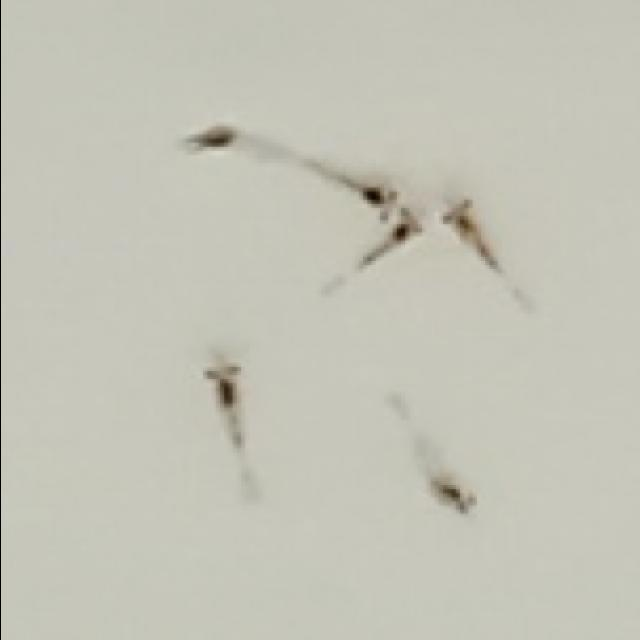shrimp-seed: (434, 189, 494, 265), (170, 110, 248, 165), (416, 468, 482, 526), (195, 358, 248, 412), (378, 204, 427, 258), (346, 176, 400, 223)
